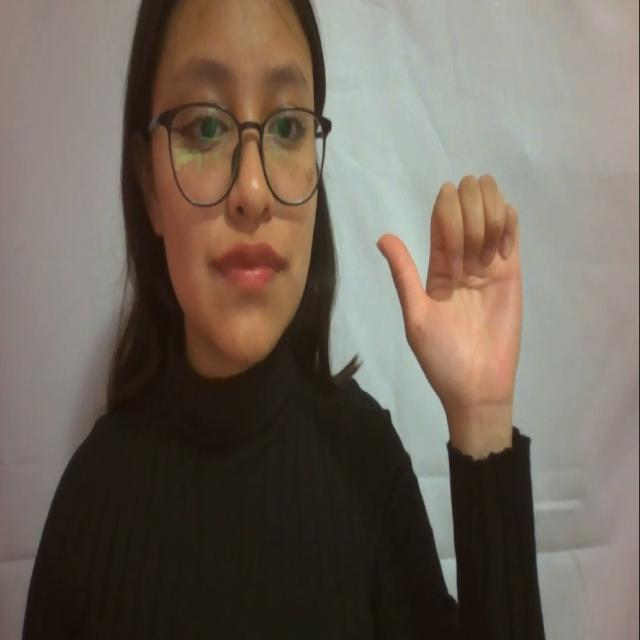A: (364, 169, 548, 415)
